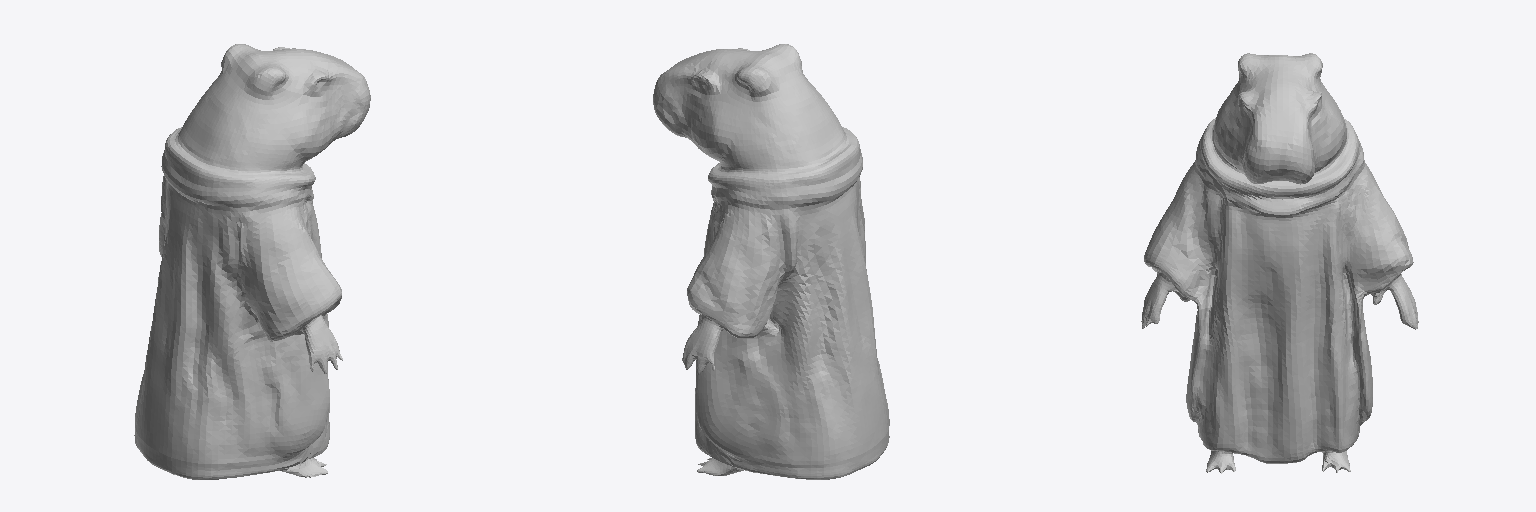
The model's file is uploads_files_5322793_capybara_HP.obj.
The picture shows the model from 3 angles: view 1: azimuth 30°, elevation 25°; view 2: azimuth 150°, elevation 25°; view 3: azimuth 270°, elevation 25°; orthographic projection.
Visible parts, largest first — view 1: mesh; view 2: mesh; view 3: mesh.
Boxes of the visible parts, <box> form: mesh: <box>134,44,370,479</box>; mesh: <box>653,44,889,479</box>; mesh: <box>1141,53,1418,473</box>.
Bounding box in the file's own units: 0.5567 × 0.9989 × 0.6265.